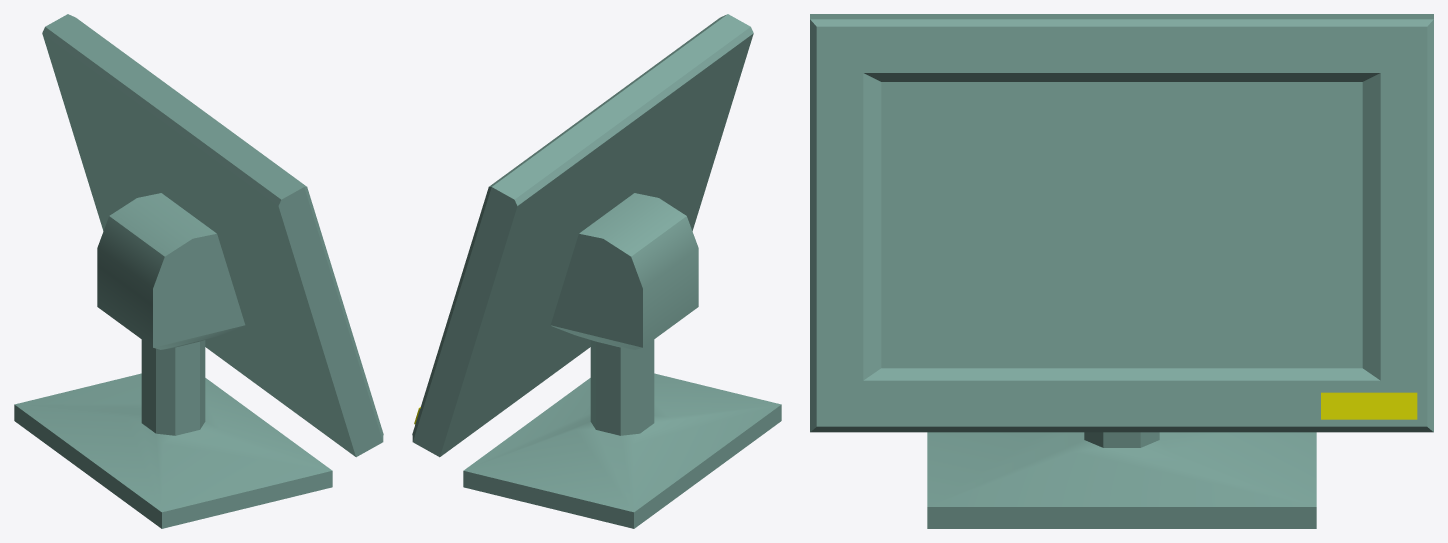
The model's file is ATLAS_PR_MONITOR.fbx.
3 views of the same model, side by side, from view 1: azimuth 30°, elevation 25°; view 2: azimuth 150°, elevation 25°; view 3: azimuth 270°, elevation 25° (orthographic). The views are drawn at different scales.
Parts seen in each view (by area): view 1: PR_MONITOR; view 2: PR_MONITOR; view 3: PR_MONITOR.
Boxes of the visible parts, box(x1,y1,x2,y2) form: PR_MONITOR: box(14, 14, 383, 528); PR_MONITOR: box(412, 14, 781, 528); PR_MONITOR: box(810, 14, 1433, 528).
Size of the model in its own units: 23.84 by 43.88 by 53.6.
